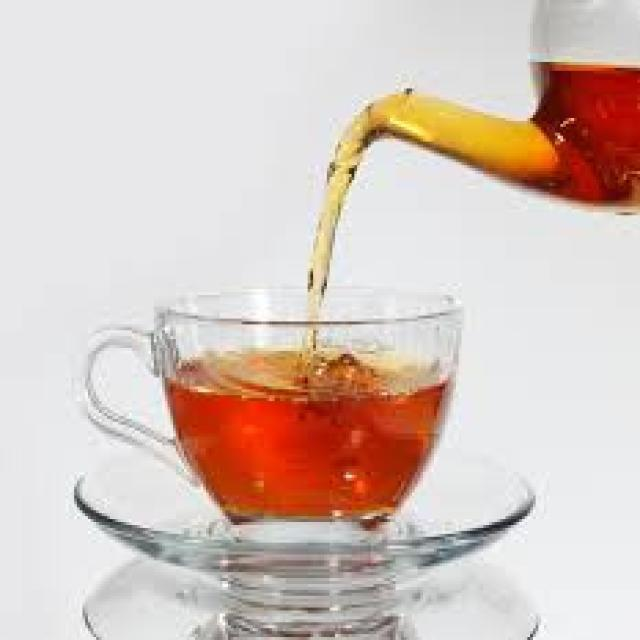taza: (47, 278, 480, 536)
